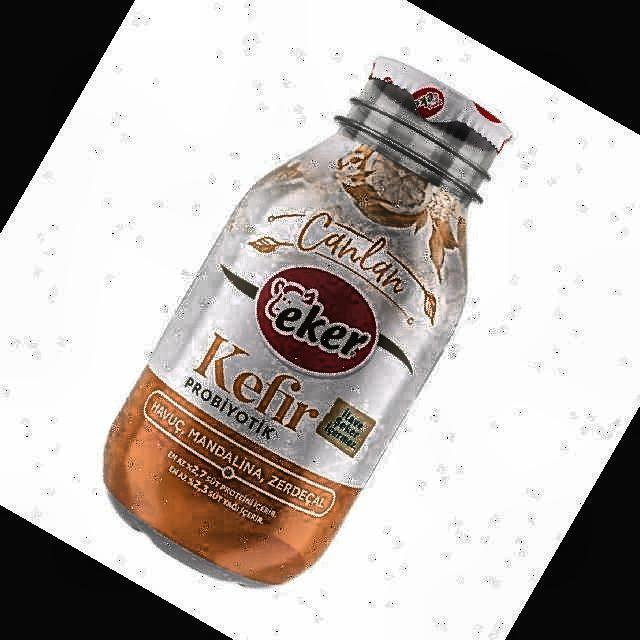plastic: (105, 58, 511, 584)
